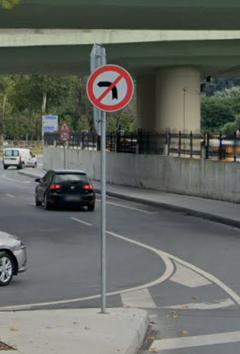leftturnsareforbidden: (88, 66, 134, 110)
